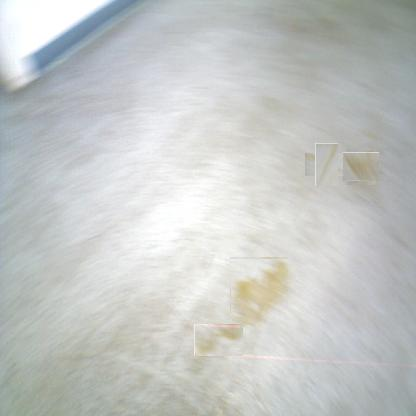liquid: (230, 258, 288, 324), (194, 324, 243, 356), (310, 148, 343, 181), (345, 151, 378, 183)
